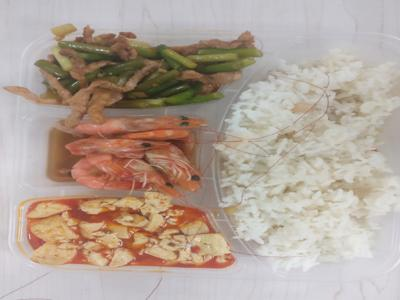df: (22, 194, 246, 278)
rice: (246, 65, 389, 276)
st: (29, 27, 261, 113)
